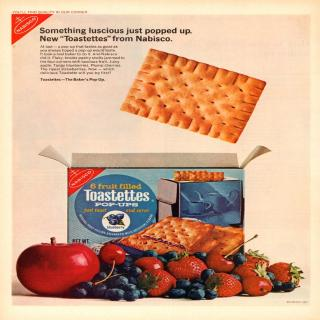Apple: (22, 242, 105, 299)
Strawberry: (164, 247, 208, 280), (138, 267, 174, 295), (210, 278, 248, 300), (234, 260, 272, 276), (244, 246, 268, 268)
